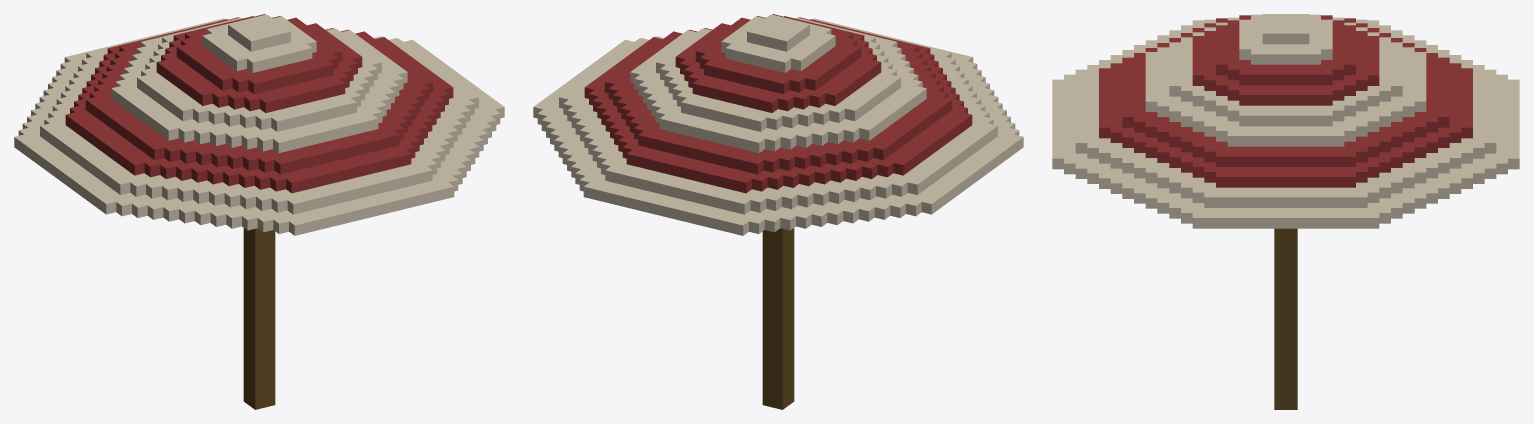
Rendered from Background_C_deco_02.FBX.
3 views of the same model, side by side, from view 1: azimuth 30°, elevation 25°; view 2: azimuth 150°, elevation 25°; view 3: azimuth 270°, elevation 25° (orthographic).
Parts seen in each view (by area): view 1: Background_C-12; view 2: Background_C-12; view 3: Background_C-12.
Part boxes in pixels (x1,y1,x2,y2): Background_C-12: [14, 14, 504, 409]; Background_C-12: [533, 14, 1023, 409]; Background_C-12: [1052, 14, 1519, 409].
Bounding box in the file's own units: 4 × 3.6 × 4.
Materials: 1 (1 with a texture image).
